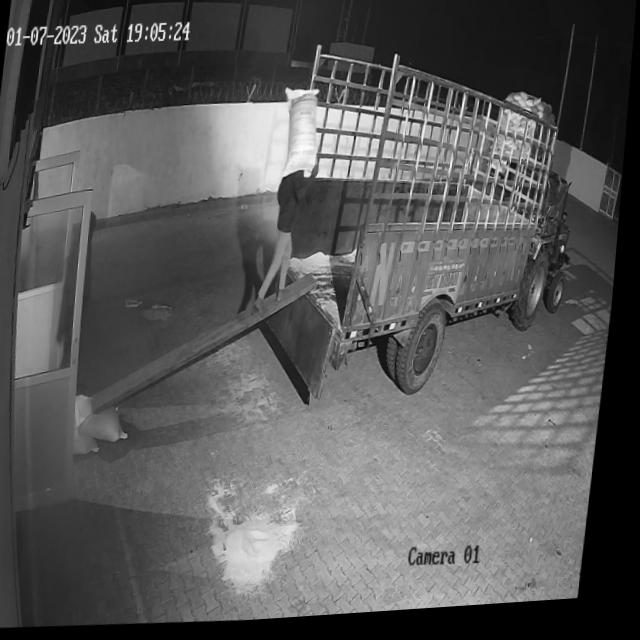sack: (279, 88, 326, 181), (78, 393, 138, 446)
